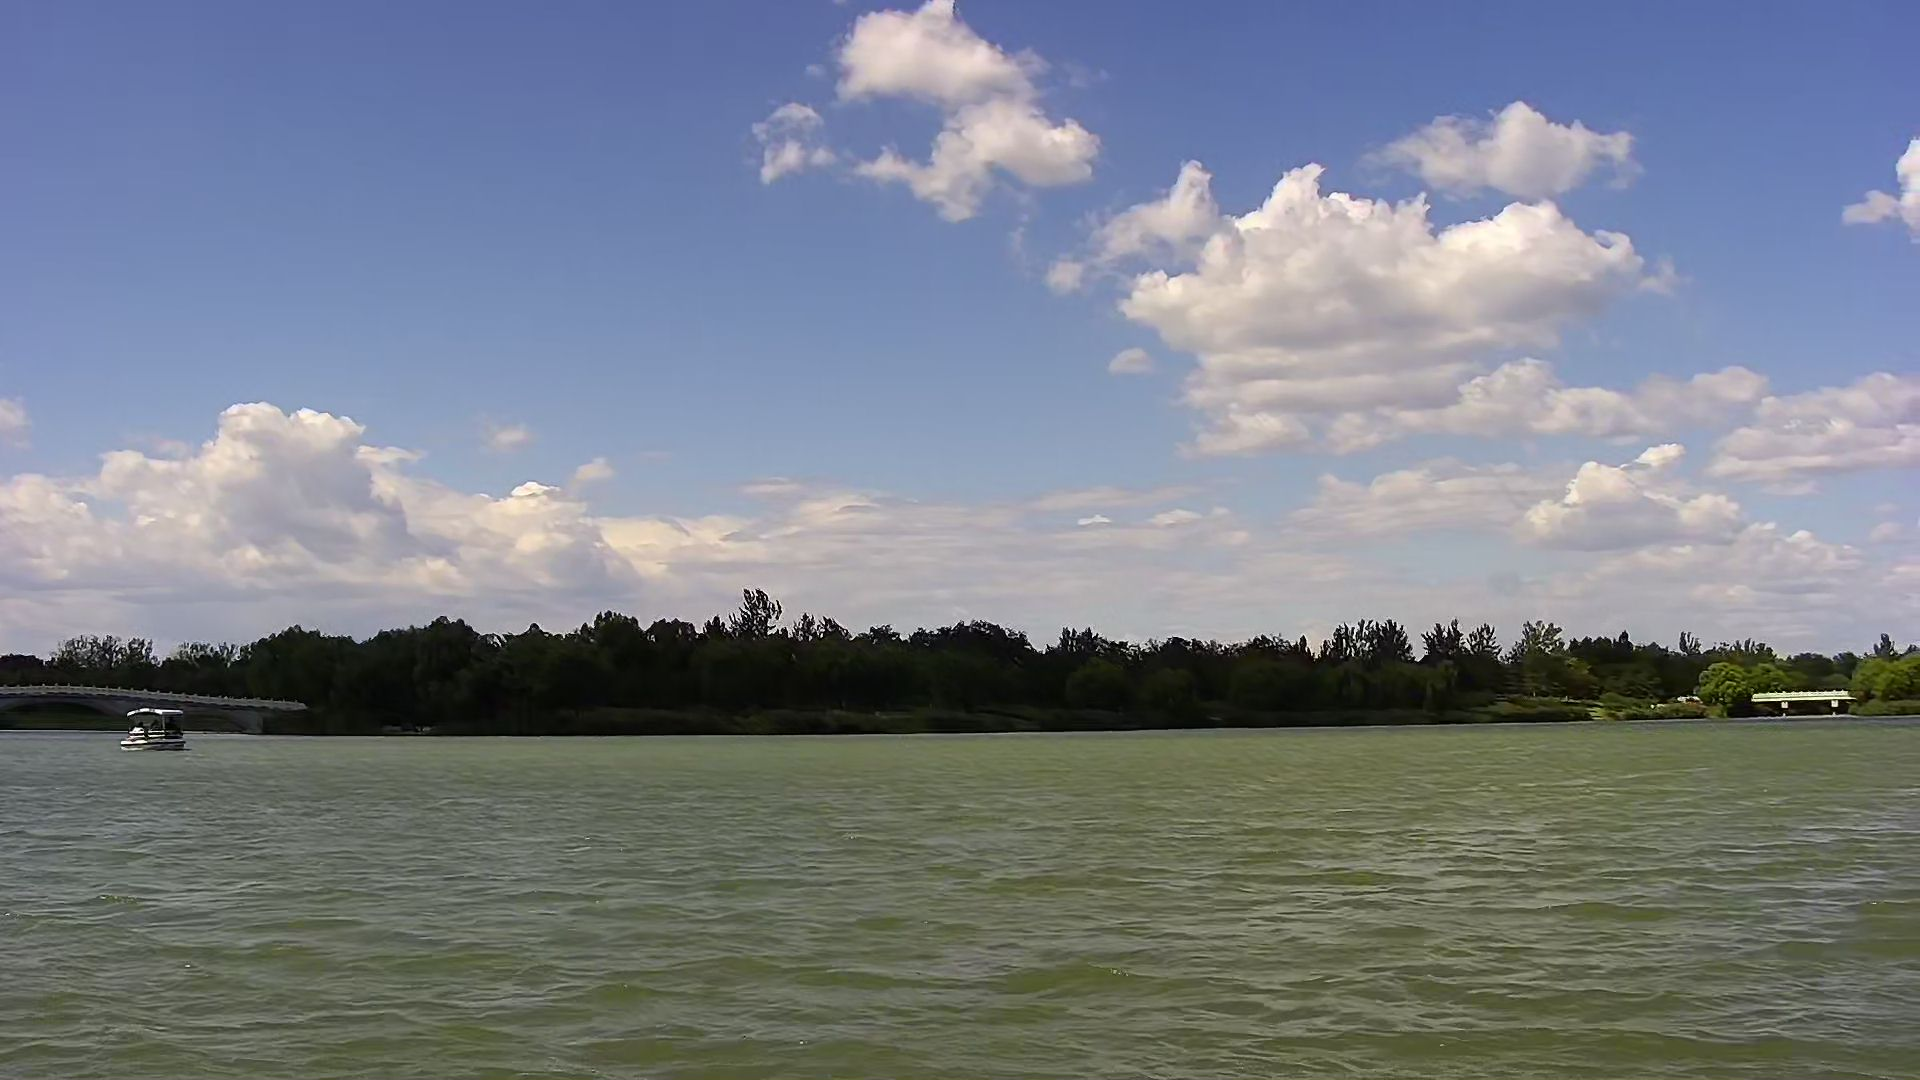boat: (113, 705, 190, 753)
bridge: (1, 682, 301, 735), (1746, 682, 1855, 727)
